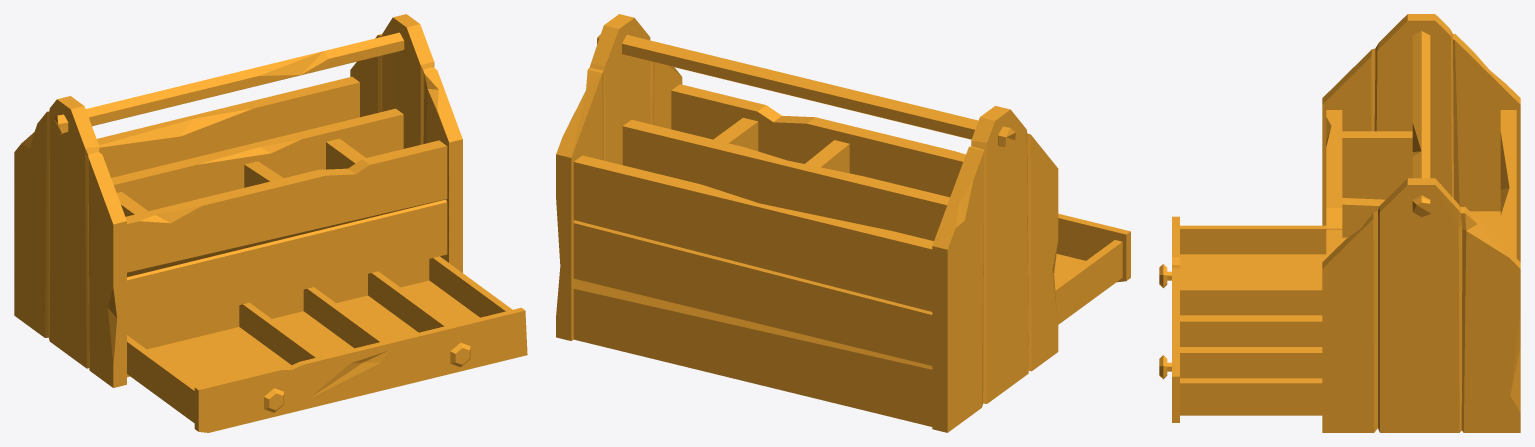
The model's file is SM_Toolbox_Wood_Open.fbx.
The picture shows the model from 3 angles, left to right: view 1: azimuth 30°, elevation 25°; view 2: azimuth 150°, elevation 25°; view 3: azimuth 270°, elevation 25°; orthographic projection. The views are drawn at different scales.
Visible parts, largest first — view 1: toolbox-wood-open; view 2: toolbox-wood-open; view 3: toolbox-wood-open.
Boxes of the visible parts, x1=… form: toolbox-wood-open: x1=14, y1=14, x2=527, y2=432; toolbox-wood-open: x1=556, y1=14, x2=1130, y2=432; toolbox-wood-open: x1=1159, y1=14, x2=1520, y2=432.
Bounding box in the file's own units: 0.5347 × 0.3452 × 0.4556.
